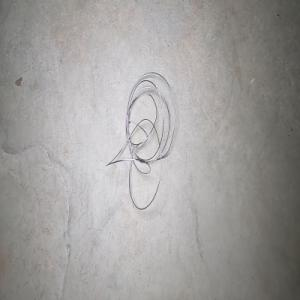Wire: (105, 71, 175, 209)
